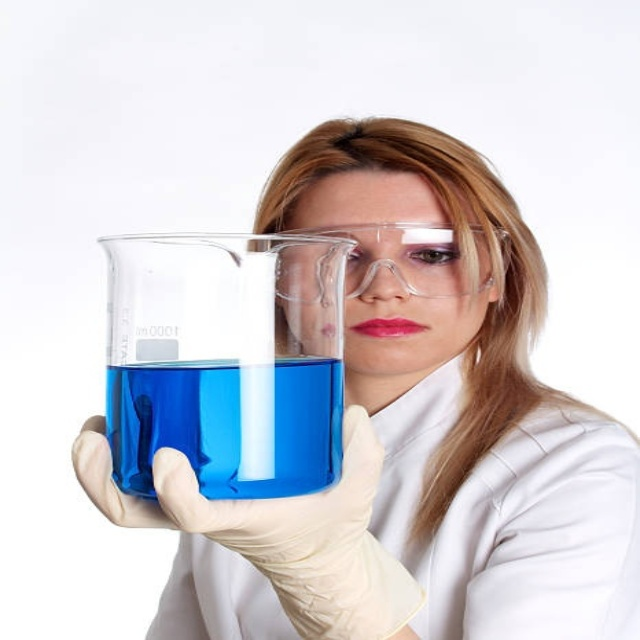Gafas: (269, 222, 510, 303)
Guantes: (79, 401, 421, 638)
Sin_mascara: (345, 313, 437, 368)
